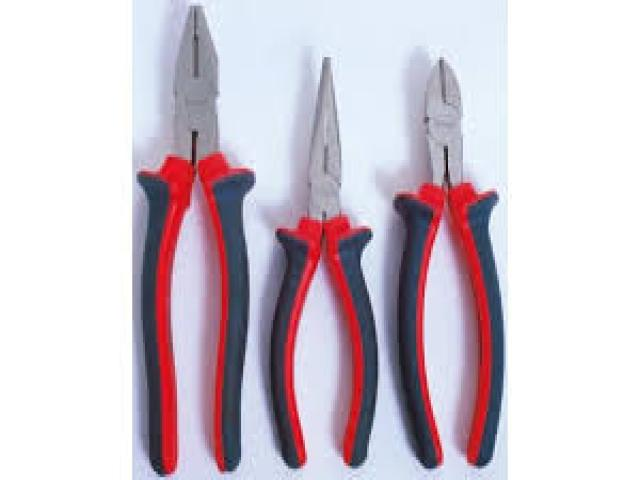Cutting pliers: (394, 59, 504, 466)
Needle-nose pliers: (271, 57, 378, 466)
Pliers: (138, 5, 255, 473)
